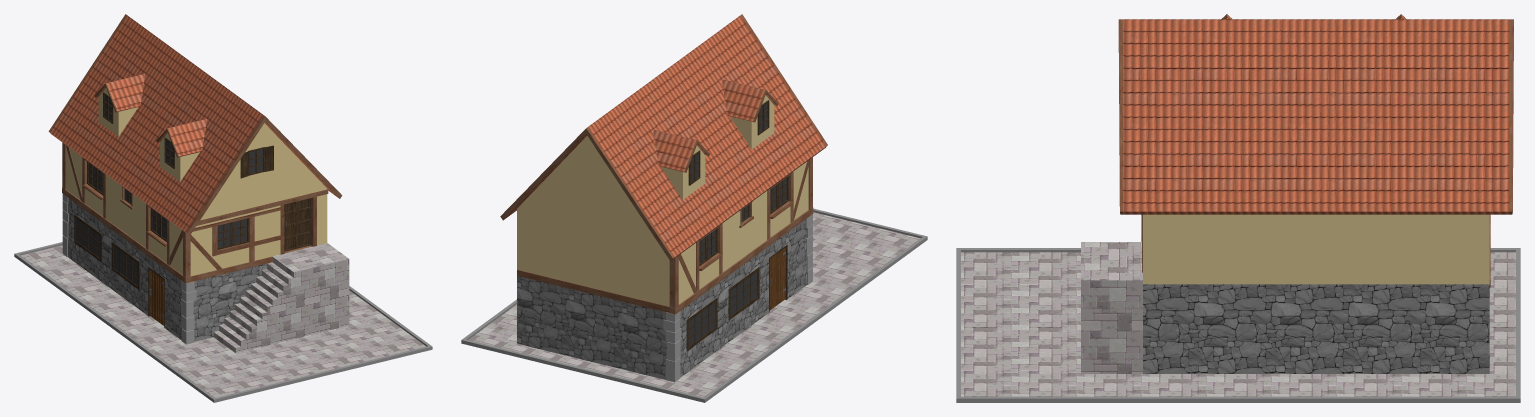
File: House 9.fbx
3 views of the same model, side by side, from view 1: azimuth 30°, elevation 25°; view 2: azimuth 150°, elevation 25°; view 3: azimuth 270°, elevation 25° (orthographic). The views are drawn at different scales.
Parts seen in each view (by area): view 1: House 4.008, House 4.004, Plane.004, Cube.030, Cube.052, House 4.009, Door 1, Cube.029, Cube.031, House 4.006, Cube.053; view 2: House 4.004, House 4.008, Plane.004, Cube.052, House 4.009, Cube.029, House 4.006, Cube.031; view 3: House 4.008, House 4.004, Plane.004, Cube.030, Cube.052.
Boxes of the visible parts, bbox=[...] form: House 4.008: bbox=[50, 15, 337, 233]; House 4.004: bbox=[62, 123, 327, 344]; Plane.004: bbox=[14, 242, 432, 402]; Cube.030: bbox=[213, 243, 349, 353]; Cube.052: bbox=[48, 14, 342, 283]; House 4.009: bbox=[74, 161, 248, 289]; Door 1: bbox=[284, 198, 311, 251]; Cube.029: bbox=[98, 88, 199, 181]; Cube.031: bbox=[103, 92, 264, 175]; House 4.006: bbox=[149, 269, 164, 325]; Cube.053: bbox=[240, 145, 273, 178]; House 4.004: bbox=[517, 136, 812, 382]; House 4.008: bbox=[505, 15, 826, 259]; Plane.004: bbox=[461, 208, 927, 402]; Cube.052: bbox=[500, 14, 827, 314]; House 4.009: bbox=[686, 176, 788, 350]; Cube.029: bbox=[661, 95, 774, 199]; House 4.006: bbox=[769, 247, 785, 310]; Cube.031: bbox=[688, 100, 769, 185]; House 4.008: bbox=[1123, 15, 1509, 214]; House 4.004: bbox=[1143, 214, 1489, 373]; Plane.004: bbox=[956, 248, 1520, 402]; Cube.030: bbox=[1081, 242, 1142, 373]; Cube.052: bbox=[1118, 14, 1513, 287].
Bounding box in the file's own units: 1841 × 1755 × 2915.
